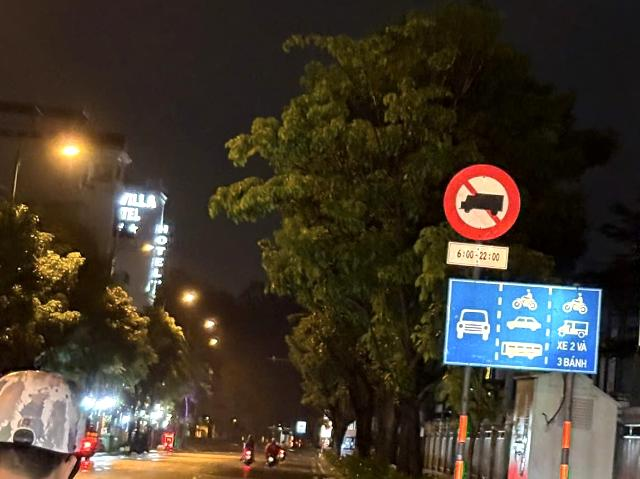cam-xe-tai: (443, 164, 523, 241)
